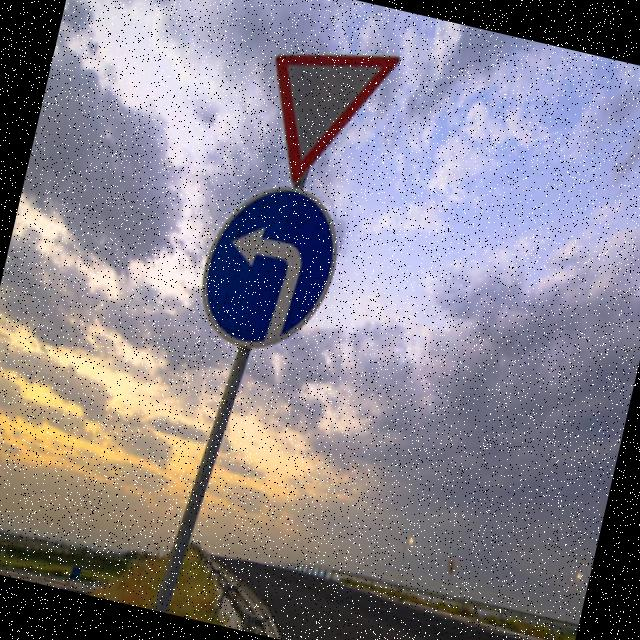give_way: (242, 11, 407, 207)
